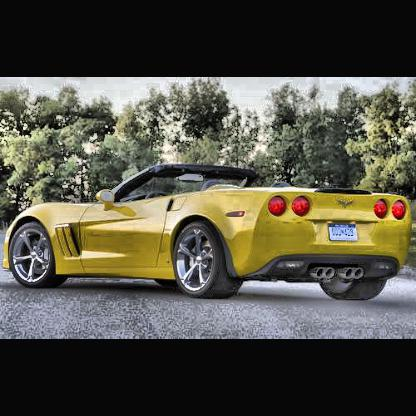Chevrolet Corvette Convertible 2012: (5, 166, 412, 305)
